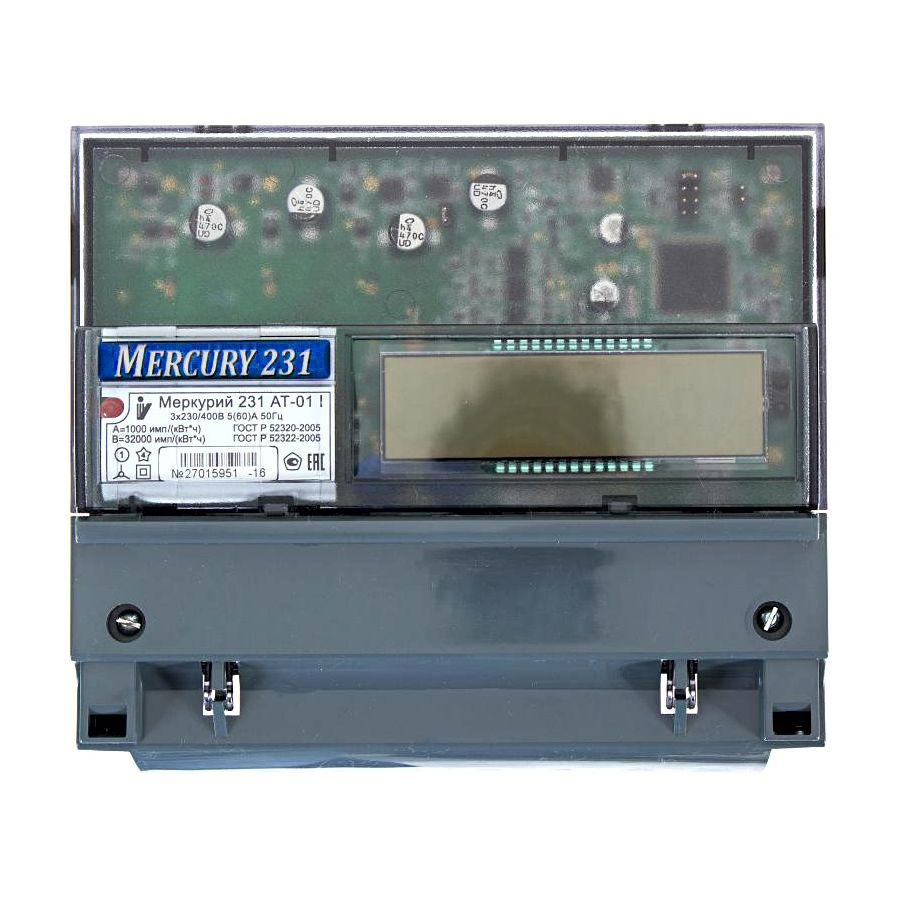counter: (59, 120, 832, 768)
counter_screen: (372, 346, 772, 463)
